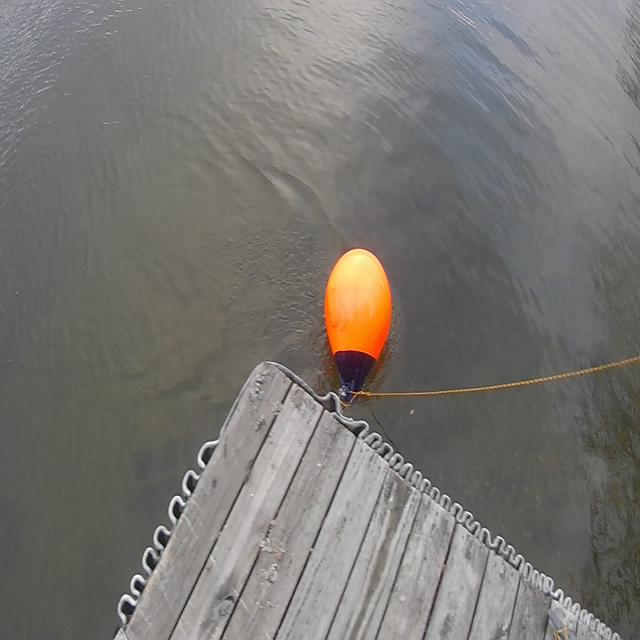Buoy: (322, 242, 395, 408)
